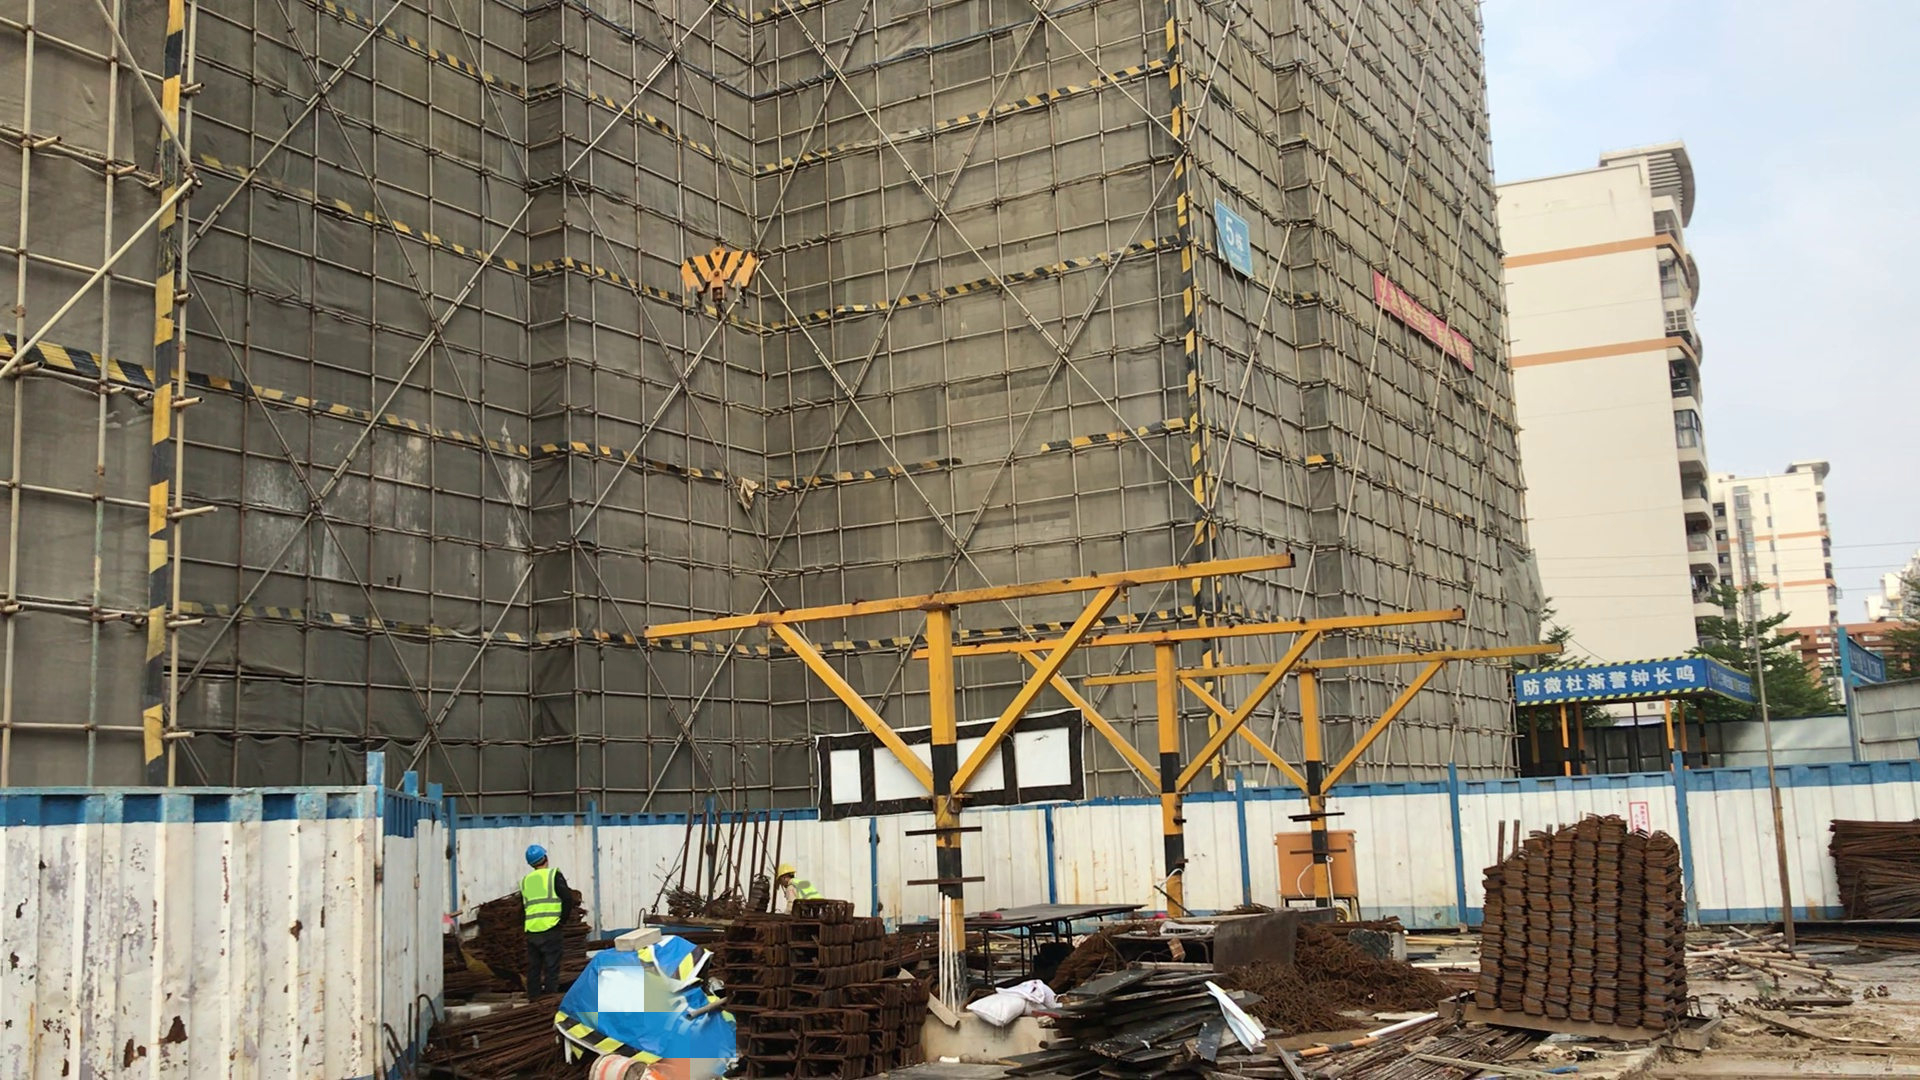helmet: (523, 844, 547, 869), (775, 860, 797, 883)
hook: (677, 223, 767, 318)
person: (512, 835, 570, 1001), (771, 854, 829, 908)
rebar: (1823, 807, 1911, 961), (421, 1000, 547, 1080)
slogan: (1511, 645, 1725, 725), (1354, 264, 1501, 379)
vest: (522, 870, 564, 938), (786, 882, 828, 909)
